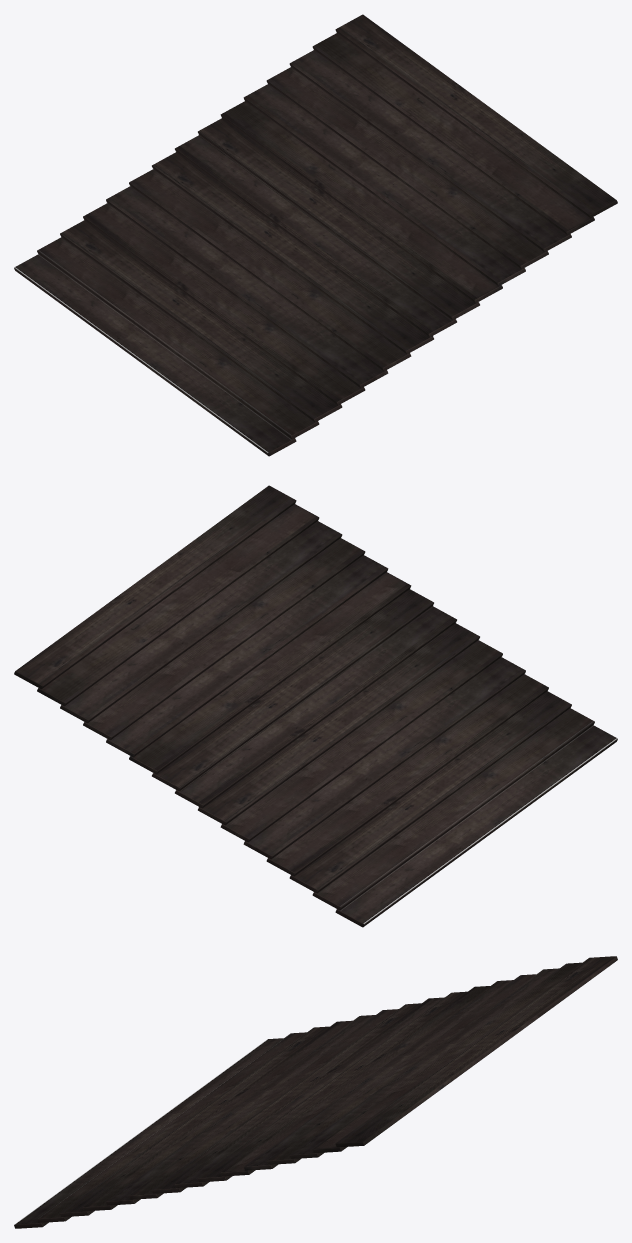
The model's file is Krisha.fbx.
3 renders of one model, top to bottom at view 1: azimuth 30°, elevation 25°; view 2: azimuth 150°, elevation 25°; view 3: azimuth 330°, elevation 25°, orthographic.
Visible parts, largest first — view 1: Krisha; view 2: Krisha; view 3: Krisha.
Part boxes in pixels (x1=…): Krisha: x1=14, y1=14, x2=617, y2=456; Krisha: x1=14, y1=485, x2=617, y2=927; Krisha: x1=14, y1=956, x2=617, y2=1228.
Size of the model in its own units: 447 by 209 by 561.
